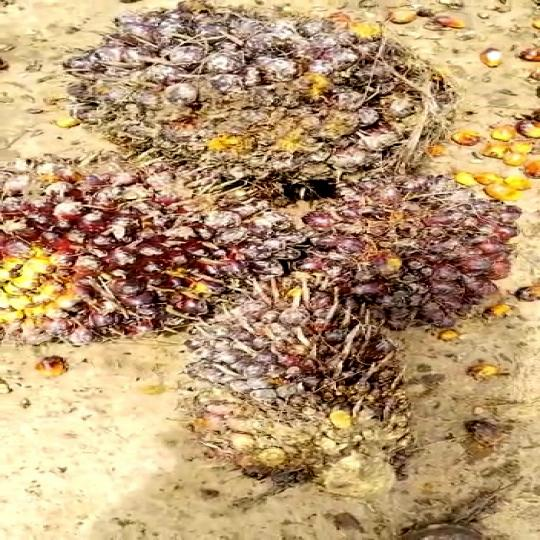kurang masak: (75, 9, 434, 207), (170, 285, 455, 505), (0, 151, 297, 333), (264, 150, 518, 347)
